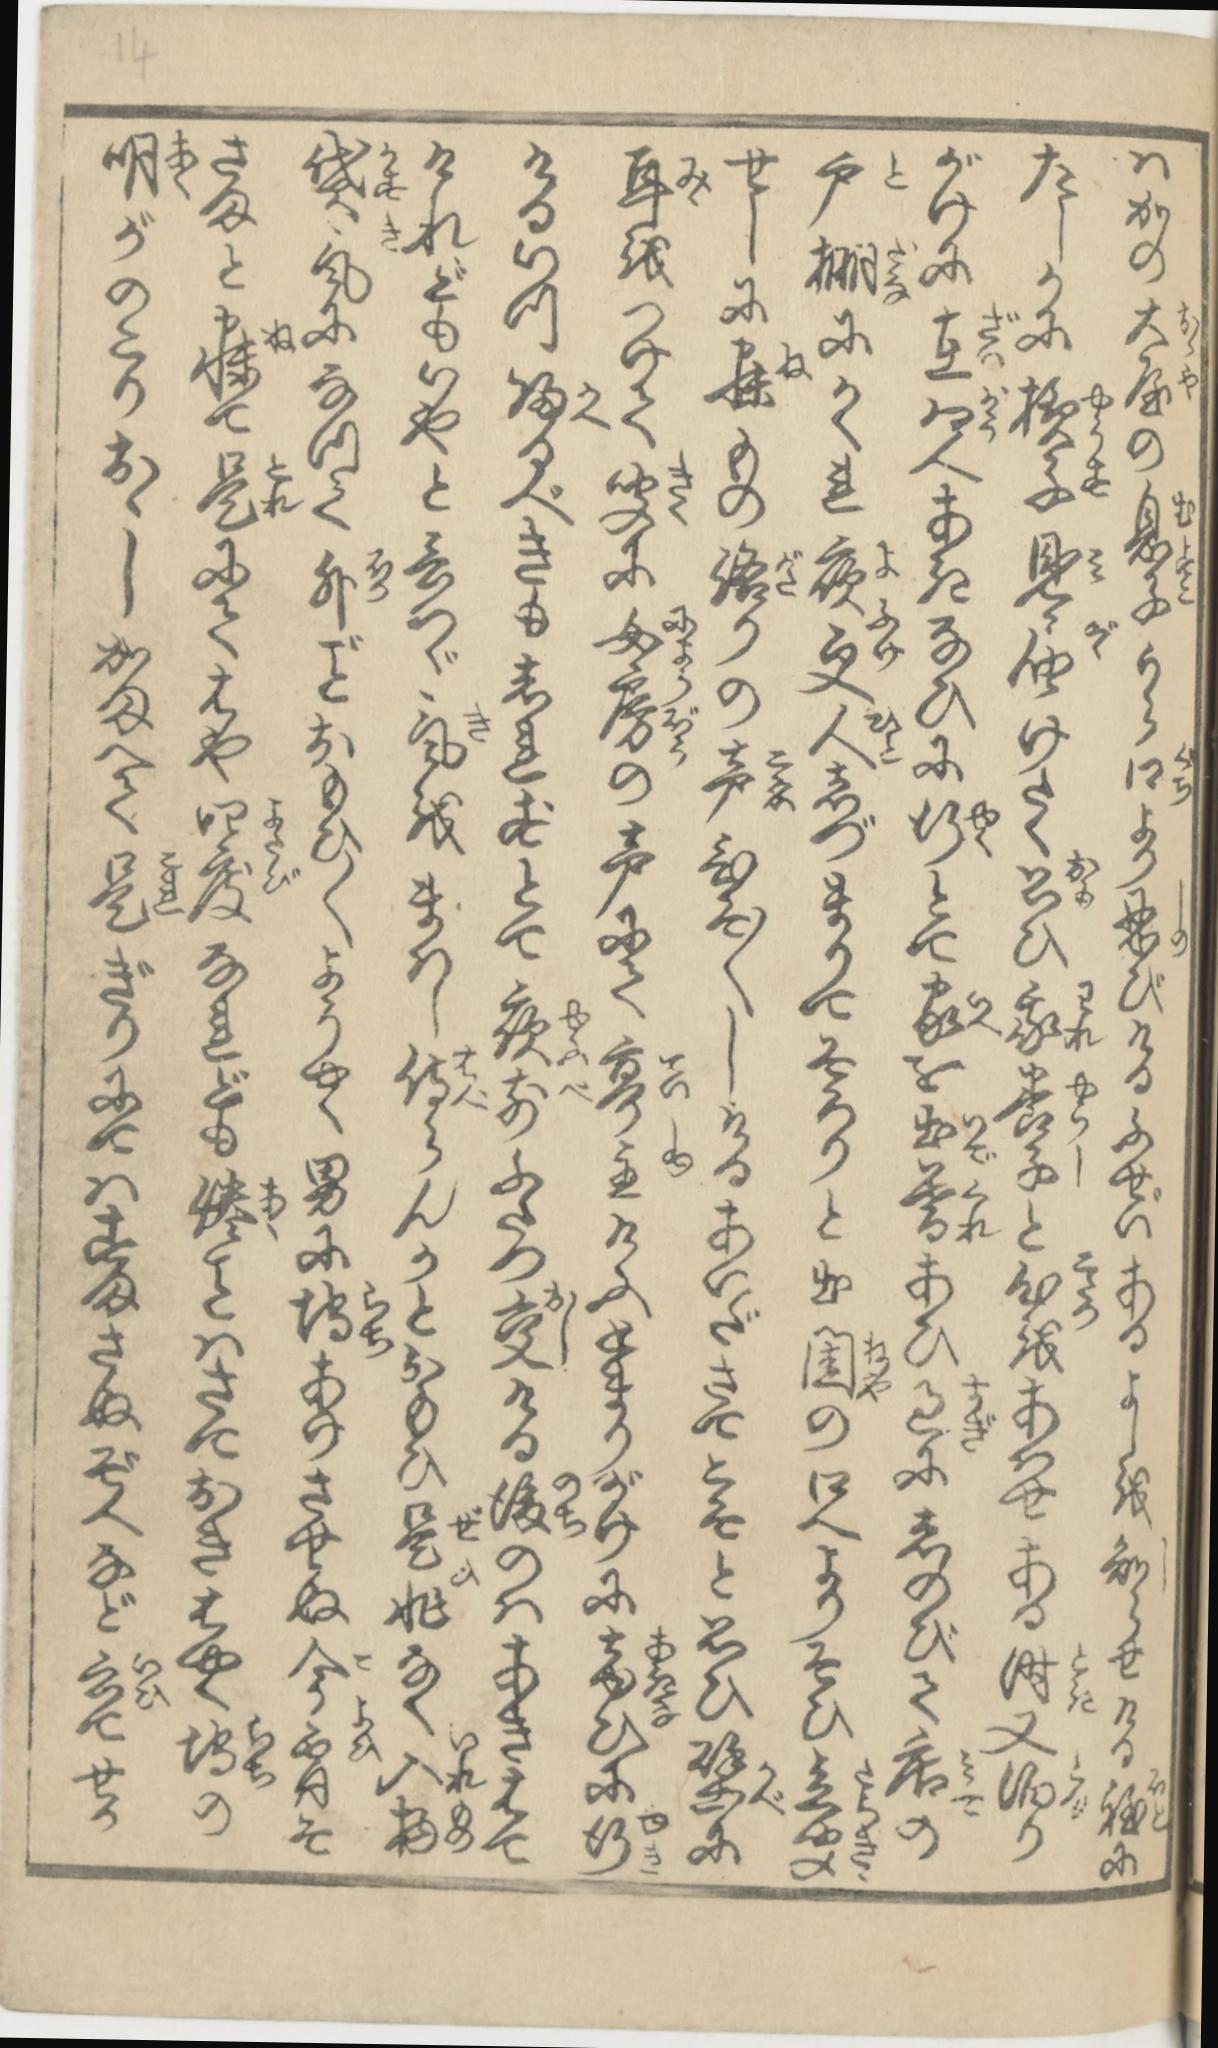MainZone-Character: (293, 209, 407, 317), (296, 126, 412, 229), (291, 1694, 384, 1816), (183, 838, 304, 931), (1002, 617, 1127, 704), (800, 604, 912, 702), (478, 1280, 589, 1377), (583, 1619, 681, 1725), (594, 1035, 700, 1132), (702, 332, 816, 420), (191, 304, 302, 396), (883, 1722, 989, 1816), (805, 143, 916, 232), (608, 139, 721, 225), (680, 1733, 789, 1822), (286, 1274, 396, 1361), (596, 671, 699, 764), (378, 1552, 490, 1638), (490, 977, 594, 1067), (196, 446, 304, 530), (803, 233, 919, 312), (899, 1162, 1002, 1249), (394, 687, 499, 773), (596, 445, 697, 532), (84, 844, 186, 931), (183, 1165, 293, 1245), (1012, 528, 1116, 612), (1000, 980, 1106, 1062), (178, 1710, 281, 1794), (1000, 1246, 1105, 1328), (386, 1035, 490, 1116), (993, 1641, 1103, 1718), (995, 1064, 1101, 1144), (599, 1119, 697, 1204), (702, 739, 797, 826), (380, 1497, 487, 1574), (905, 1368, 999, 1455), (103, 122, 200, 206), (795, 1320, 895, 1402), (1011, 375, 1112, 455), (489, 1065, 594, 1141), (500, 364, 615, 433), (919, 303, 1011, 387), (489, 1470, 590, 1544), (594, 603, 702, 673), (806, 529, 911, 600), (806, 699, 906, 773), (377, 1731, 490, 1796), (702, 535, 803, 607), (304, 546, 397, 625), (782, 1822, 887, 1890), (568, 1810, 674, 1878), (383, 1791, 483, 1862), (792, 1745, 882, 1823), (906, 791, 1002, 864), (1124, 536, 1201, 626), (992, 1754, 1096, 1819), (908, 971, 1000, 1044), (1112, 886, 1195, 965), (911, 384, 1011, 449), (68, 1652, 173, 1713), (1012, 458, 1115, 517), (1011, 851, 1102, 917), (287, 1636, 376, 1704), (1095, 1764, 1176, 1838), (1118, 291, 1202, 362), (902, 1102, 999, 1162), (1114, 744, 1201, 810), (1115, 361, 1203, 426), (184, 790, 294, 839), (1096, 1531, 1176, 1594), (1118, 481, 1198, 538), (1009, 1146, 1093, 1194)
MainZone-Ruby: (641, 1625, 680, 1728), (655, 671, 697, 764), (257, 449, 307, 525), (542, 1284, 584, 1373), (235, 1710, 280, 1793), (861, 603, 908, 677), (957, 1374, 999, 1455), (1061, 983, 1105, 1058), (448, 1038, 490, 1113), (657, 449, 696, 526), (161, 128, 200, 201), (360, 1278, 394, 1361), (1066, 1249, 1103, 1323), (958, 1175, 998, 1246), (855, 1323, 890, 1402), (545, 1471, 586, 1538), (255, 306, 303, 362), (555, 988, 590, 1065), (1064, 1645, 1102, 1715), (976, 306, 1016, 370), (149, 845, 184, 919), (1079, 378, 1112, 455), (673, 151, 712, 216), (954, 1104, 999, 1161), (442, 1733, 486, 1791), (257, 839, 300, 897), (345, 1696, 381, 1765), (882, 235, 916, 307), (950, 1739, 983, 1815), (658, 606, 697, 670), (654, 1046, 695, 1107), (632, 1813, 673, 1874), (376, 138, 410, 209), (760, 746, 796, 815), (1064, 1068, 1098, 1142), (439, 1794, 478, 1857), (255, 1174, 290, 1244), (861, 707, 902, 765), (129, 1651, 168, 1710), (967, 799, 1003, 862), (1063, 849, 1101, 910), (750, 1757, 787, 1818), (571, 374, 610, 432), (845, 1823, 882, 1884), (1057, 1758, 1092, 1820), (770, 541, 803, 603), (774, 336, 815, 387), (976, 383, 1009, 444), (1172, 533, 1198, 610), (963, 983, 999, 1038), (848, 1754, 879, 1819), (877, 143, 913, 197), (1167, 746, 1199, 807), (1145, 1765, 1172, 1833), (870, 533, 905, 584), (1166, 888, 1190, 960), (1083, 620, 1121, 667), (1173, 296, 1201, 357), (447, 1503, 486, 1545), (1077, 459, 1114, 504), (463, 697, 494, 748), (658, 1139, 695, 1183), (365, 548, 391, 606), (554, 1071, 592, 1110), (377, 216, 407, 262), (1085, 541, 1112, 591), (258, 791, 289, 836), (1151, 1535, 1173, 1589), (1170, 488, 1196, 530), (1173, 365, 1202, 401), (451, 1558, 480, 1591), (347, 1648, 376, 1677), (1069, 1146, 1087, 1187)
